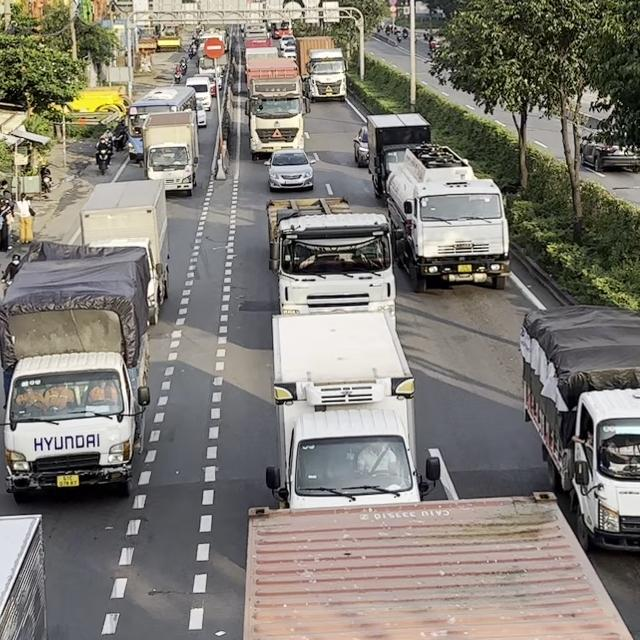bus: (125, 85, 199, 163)
car: (264, 148, 315, 191), (352, 125, 368, 167)
motorcycle: (94, 138, 113, 175), (40, 166, 52, 192)
truck: (242, 490, 637, 639), (0, 239, 152, 501), (265, 309, 441, 509), (518, 303, 639, 553), (383, 143, 511, 292), (265, 196, 396, 322), (65, 178, 170, 325), (245, 58, 309, 161), (0, 513, 48, 639), (366, 111, 431, 199), (140, 109, 199, 196), (293, 35, 347, 102)
